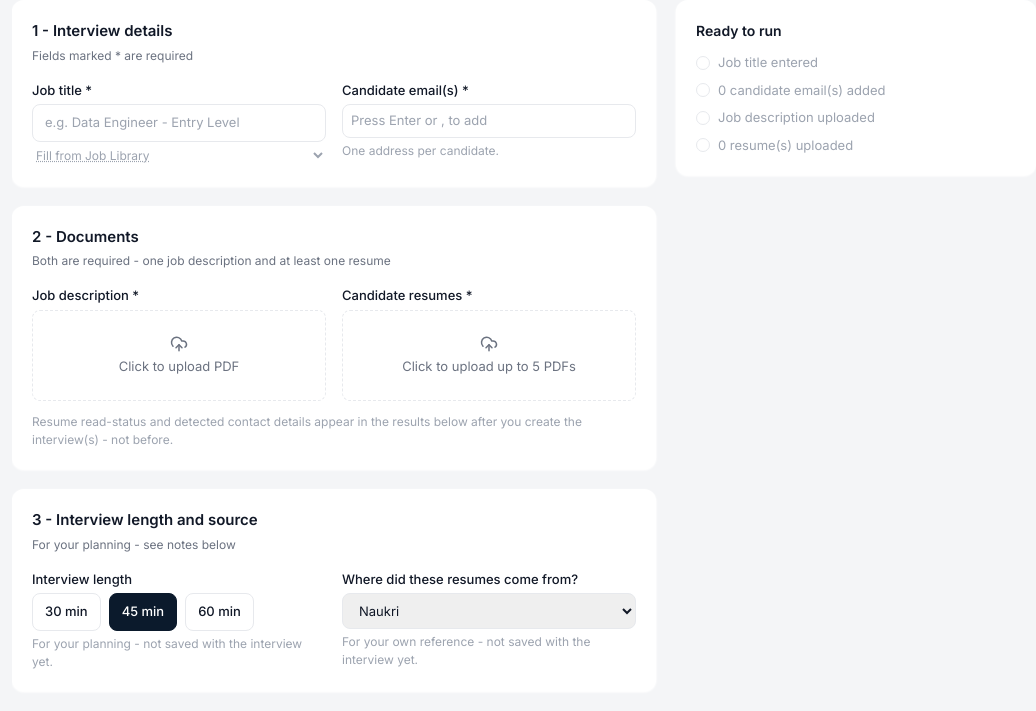
Test: InterviewsView (New Interview) › shows real saved job-title/email lists when the email field is focused, and applying one fills both fields
The width and height of the screenshot is (1036, 711).
What coordinates should you click on to do the following:
click the field with placeholder "Press Enter or , to add"
I would click on:
 (489, 121)
Its box is [351,111,627,130].
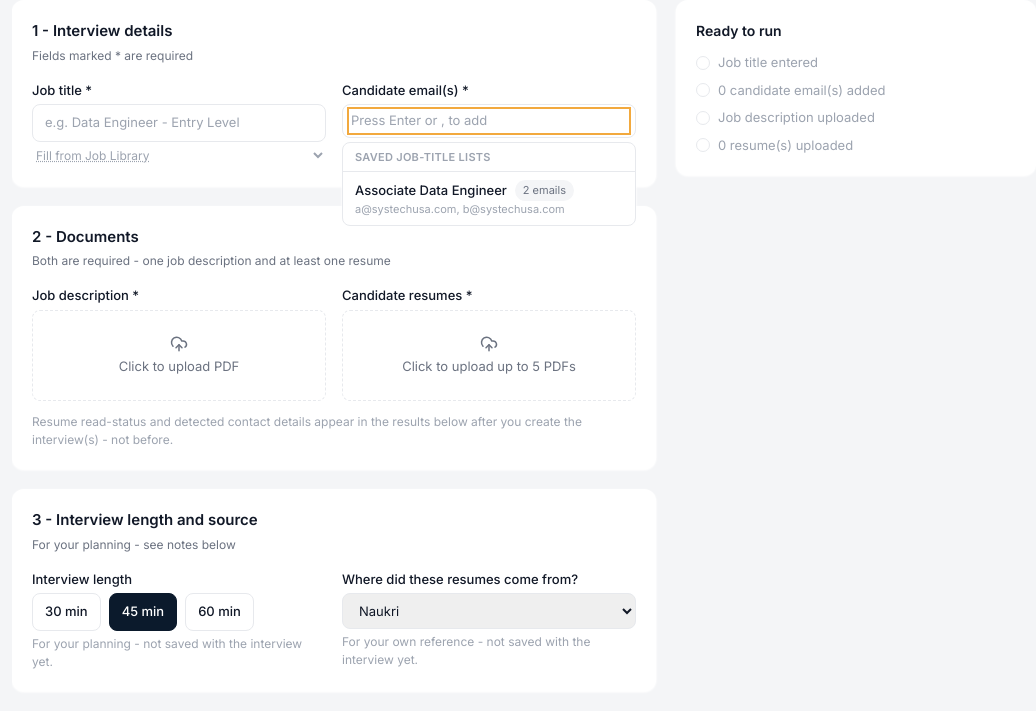
Check: the text "2 emails" is shown, box [515,180,574,200]
What coordinates should you click on to do the following:
click the button "Associate Data Engineer"
I would click on:
 (489, 198)
Its box is [343,172,635,225].
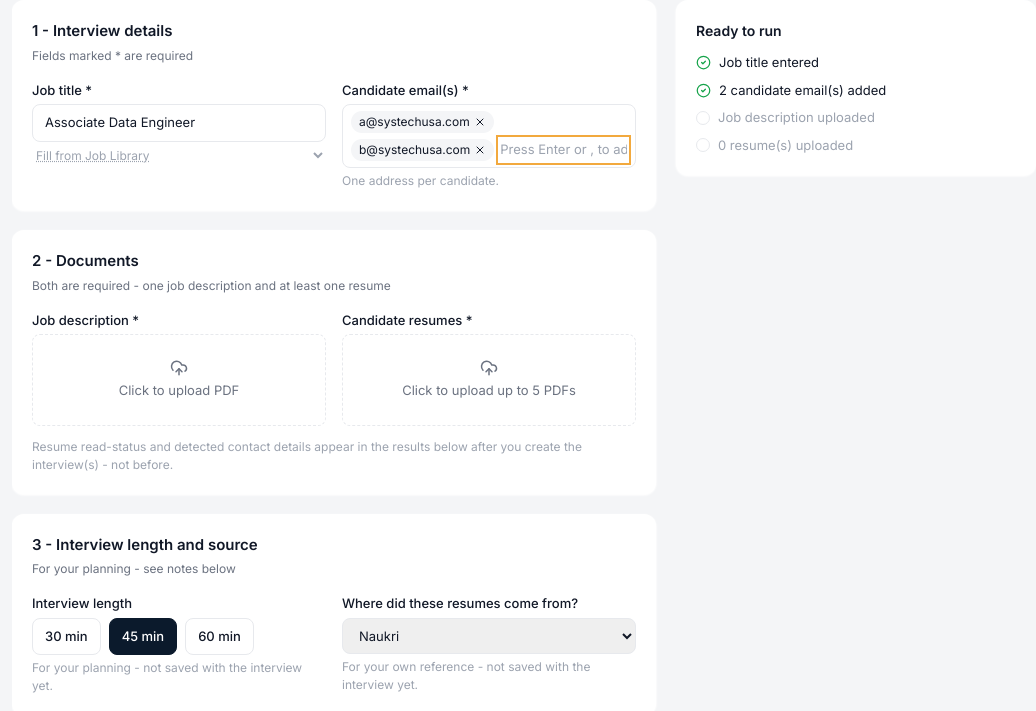
Check: the text "a@systechusa.com" is shown, box [351,111,494,133]
Check: the text "b@systechusa.com" is shown, box [351,139,494,161]
Check: the field with placeholder "e.g. Data Engineer - Entry Level" holds "Associate Data Engineer", box [32,104,326,142]
